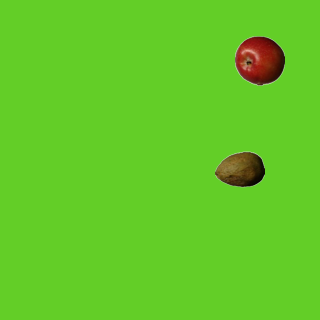Apple Braeburn: (234, 35, 284, 85)
Papaya: (214, 144, 264, 194)
